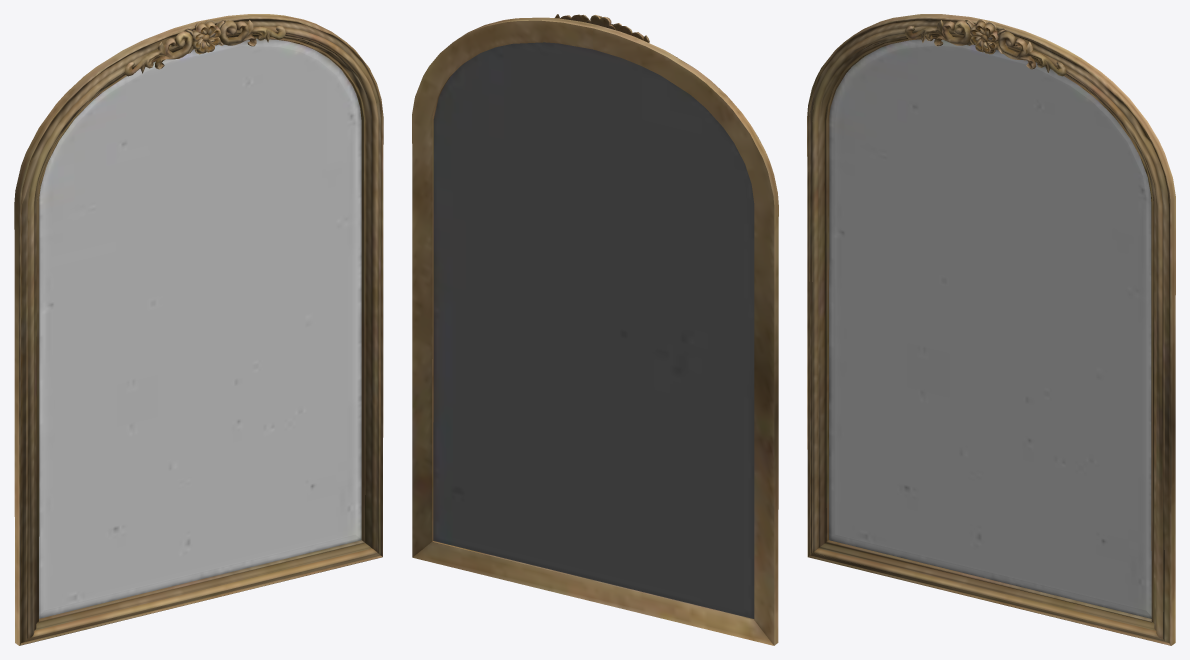
File: mirror.glb
The picture shows the model from 3 angles, left to right: view 1: azimuth 30°, elevation 25°; view 2: azimuth 150°, elevation 25°; view 3: azimuth 330°, elevation 25°; orthographic projection.
Visible parts, largest first — view 1: ornate_mirror_01; view 2: ornate_mirror_01; view 3: ornate_mirror_01.
Boxes of the visible parts, box(x1,y1,x2,y2) form: ornate_mirror_01: box(14, 14, 383, 645); ornate_mirror_01: box(412, 14, 778, 645); ornate_mirror_01: box(807, 14, 1175, 645).
Bounding box in the file's own units: 0.4865 × 0.7437 × 0.026.
1 material, 1 textured.
